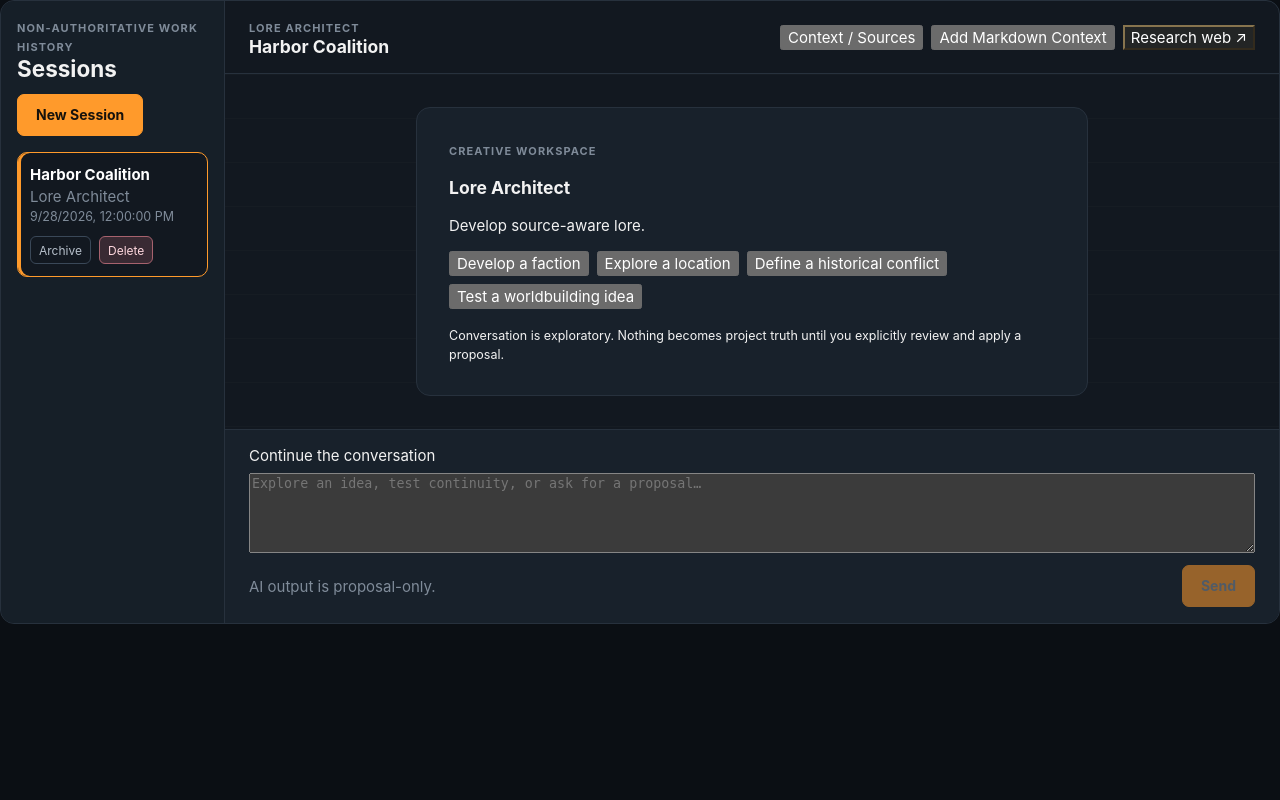
Writers' Room › restores a project session, shows its profile starters, and archives explicitly
The width and height of the screenshot is (1280, 800).
Expected: the heading "Harbor Coalition" is shown, [249,36,389,57]
Expected: the button "Develop a faction" is shown, [449,250,588,276]
Click the button with aria-label "Archive Harbor Coalition": (60, 250) [30,236,91,264]
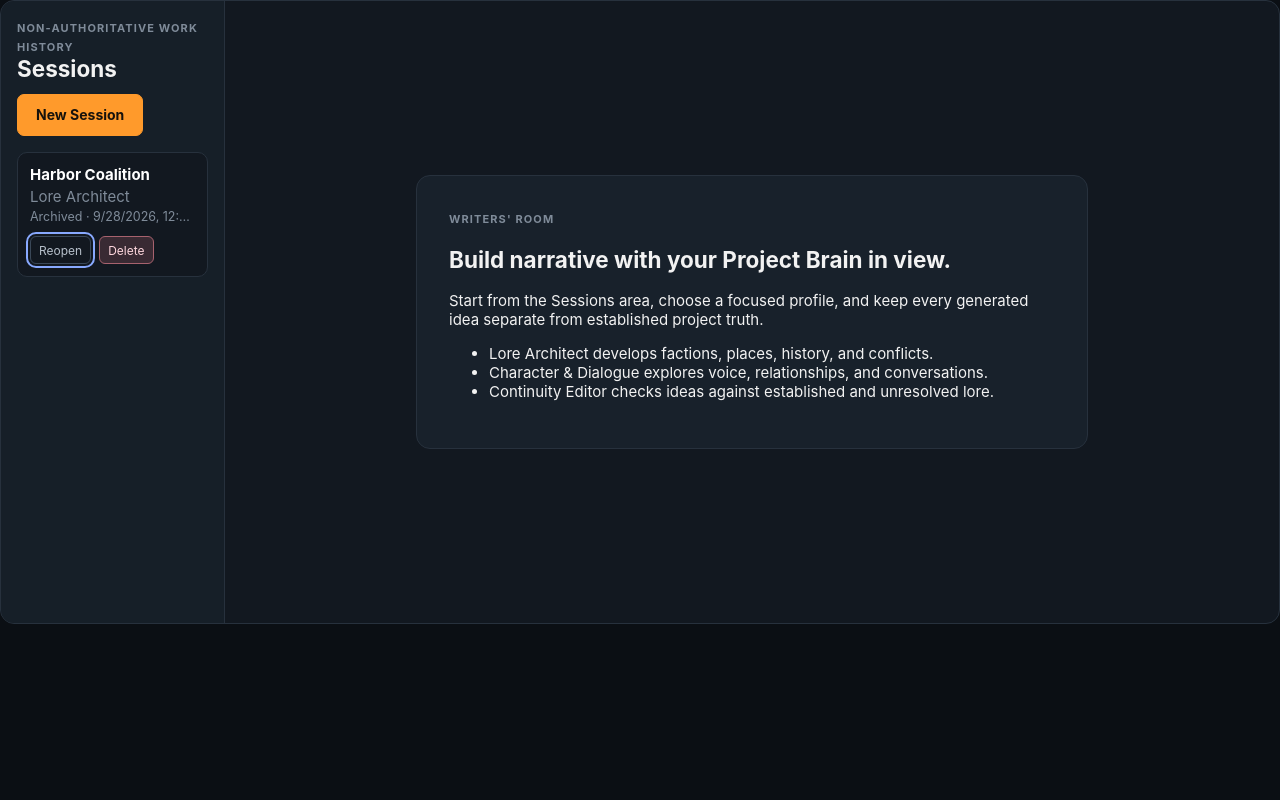
Result: the text "Archived · 9/28/2026, 12:00:00 PM" is shown at [30,209,195,224]
Click the button with aria-label "Reopen Harbor Coalition": (61, 250) [30,236,91,264]
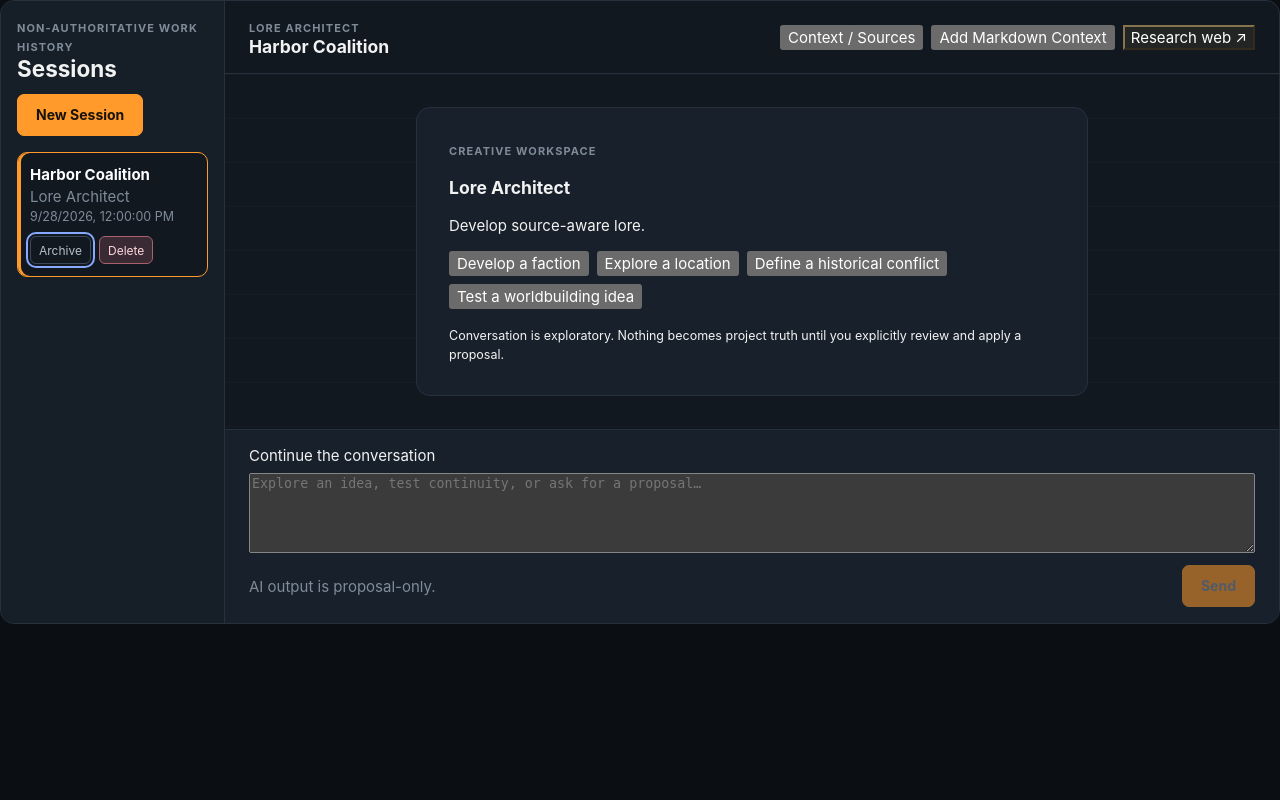
Result: the heading "Harbor Coalition" is shown at [249,36,389,57]
